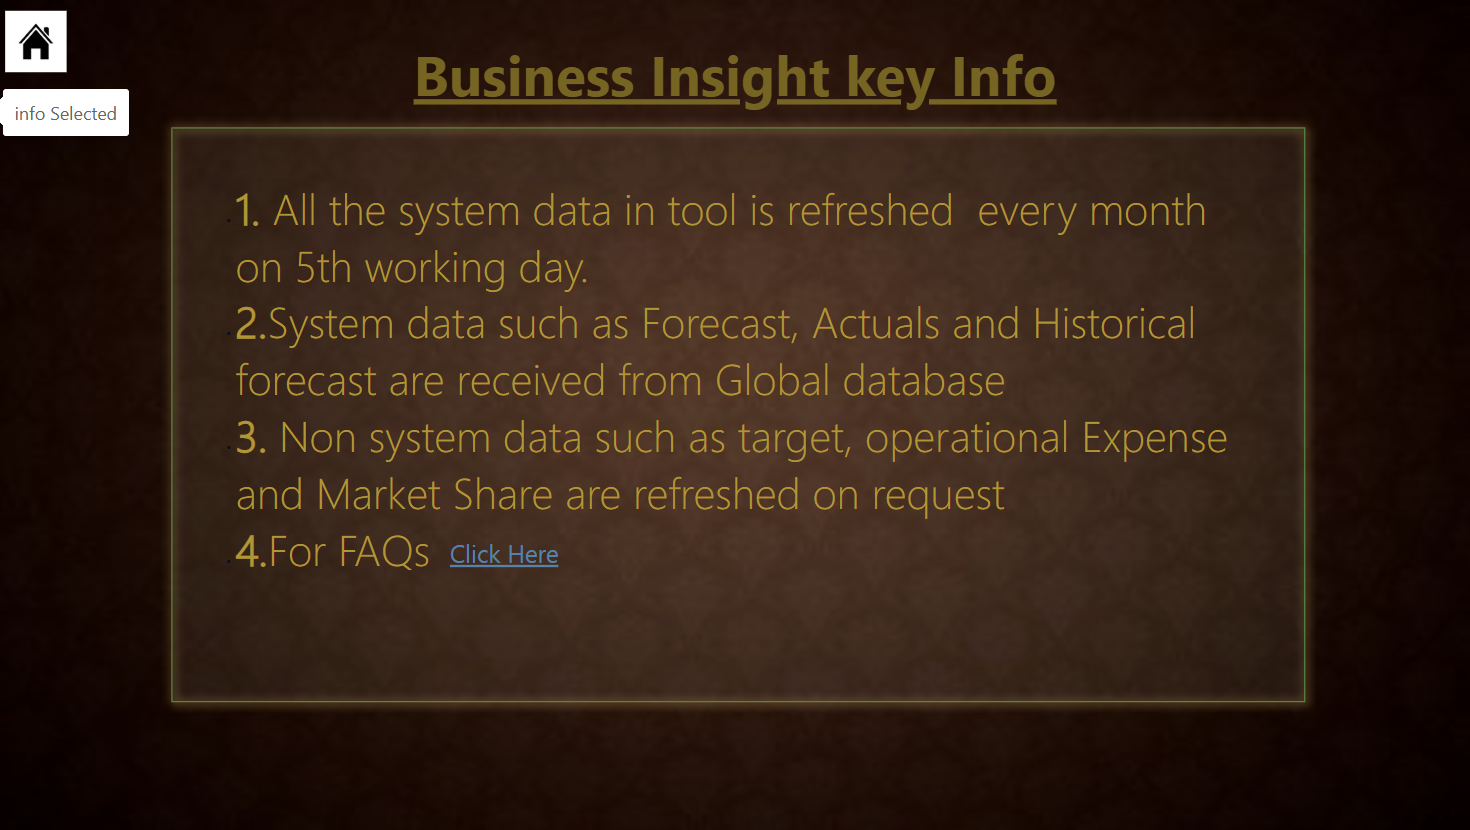

The page's visual inventory and layout, read from the dashboard file:
{"tool":"powerbi","page":{"name":"info","canvas":[1280,720],"ordinal":1},"visuals":[{"type":"shape","box":[140,101.7,1001.7,516.7],"z":0},{"type":"textbox","box":[153.3,26.7,970,75],"z":1000},{"type":"textbox","box":[181.7,150,913.3,411.7],"z":2000},{"type":"image","box":[0,0,63.3,71.7],"z":3000},{"type":"actionButton","box":[382.8,459.8,111.4,40.5],"z":4000}]}

Visuals, with their boxes in screenshot pixels (x1, y1, x2, y2), scaled from the page's 1280x720 canvas onto the 1470x830 screenshot:
shape: l=161, t=117, r=1311, b=713
textbox: l=176, t=31, r=1290, b=117
textbox: l=209, t=173, r=1258, b=648
image: l=0, t=0, r=73, b=83
actionButton: l=440, t=530, r=568, b=577
